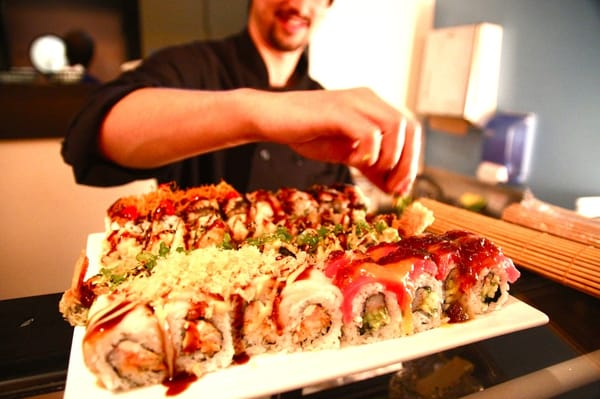sandwich: (68, 179, 554, 390)
